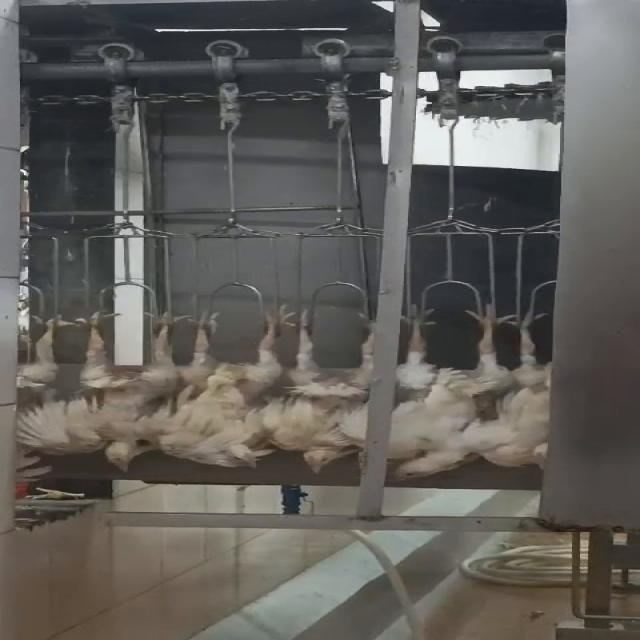chicken: (372, 303, 520, 486), (167, 296, 299, 468), (258, 307, 387, 473), (75, 307, 186, 474), (476, 303, 570, 472), (4, 312, 74, 472)
